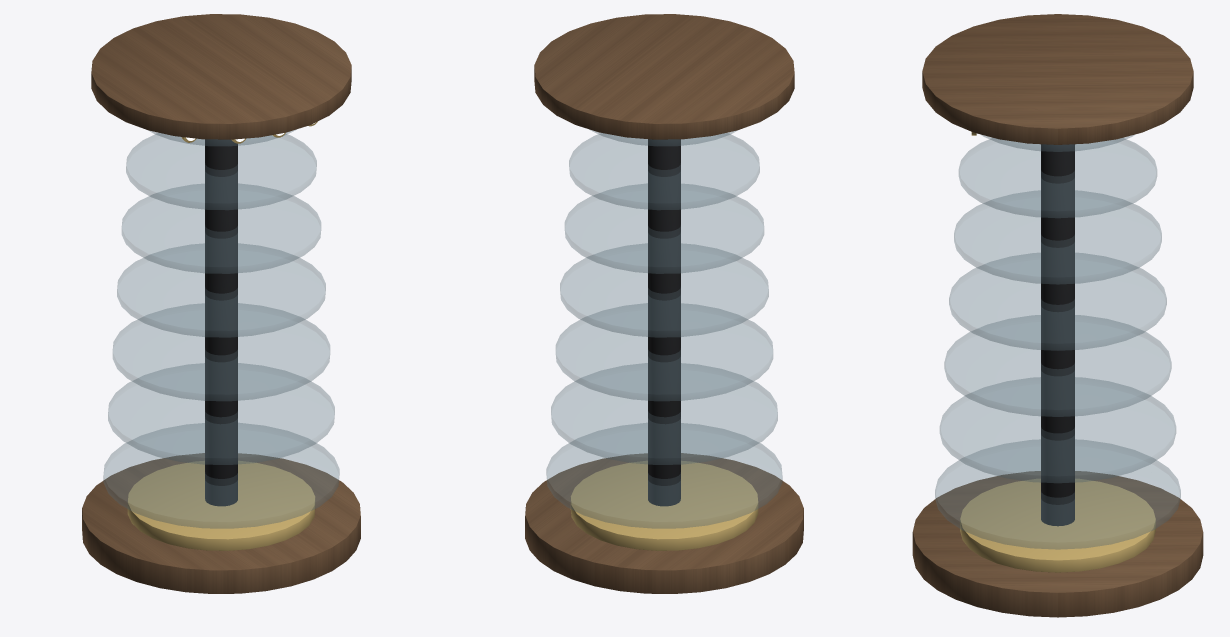
The model's file is pf_display_rotating_display_t5.glb.
3 views of the same model, side by side, from view 1: azimuth 30°, elevation 25°; view 2: azimuth 150°, elevation 25°; view 3: azimuth 270°, elevation 25° (orthographic). The views are drawn at different scales.
Visible parts, largest first — view 1: Rotor_Canopy, Stationary_Base, Rotor_Deck_01, Rotor_Deck_02, Rotor_Deck_03, Rotor_Deck_04, Rotor_Deck_05, Turntable_Bearing, Rotor_Column, Rotor_Deck_06, Rotor_Deck_07; view 2: Rotor_Canopy, Stationary_Base, Rotor_Deck_01, Rotor_Deck_02, Rotor_Deck_03, Rotor_Deck_04, Rotor_Deck_05, Turntable_Bearing, Rotor_Column, Rotor_Deck_06, Rotor_Deck_07; view 3: Rotor_Canopy, Stationary_Base, Rotor_Deck_01, Rotor_Deck_02, Rotor_Deck_03, Rotor_Deck_04, Rotor_Deck_05, Turntable_Bearing, Rotor_Column, Rotor_Deck_06, Rotor_Deck_07.
Boxes of the visible parts, x1,y1,x2,y2 form: Rotor_Canopy: [91, 14, 351, 139]; Stationary_Base: [82, 453, 360, 593]; Rotor_Deck_01: [103, 423, 339, 528]; Rotor_Deck_02: [108, 363, 334, 464]; Rotor_Deck_03: [113, 303, 329, 400]; Rotor_Deck_04: [117, 243, 325, 337]; Rotor_Deck_05: [122, 183, 320, 273]; Turntable_Bearing: [127, 461, 315, 550]; Rotor_Column: [205, 139, 237, 506]; Rotor_Deck_06: [126, 133, 316, 209]; Rotor_Deck_07: [148, 129, 296, 146]; Rotor_Canopy: [534, 14, 794, 139]; Stationary_Base: [525, 453, 803, 593]; Rotor_Deck_01: [546, 423, 782, 528]; Rotor_Deck_02: [551, 363, 777, 464]; Rotor_Deck_03: [556, 303, 772, 400]; Rotor_Deck_04: [560, 243, 768, 337]; Rotor_Deck_05: [565, 183, 763, 273]; Turntable_Bearing: [570, 461, 758, 550]; Rotor_Column: [648, 139, 680, 506]; Rotor_Deck_06: [569, 133, 759, 209]; Rotor_Deck_07: [589, 129, 737, 146]; Rotor_Canopy: [922, 14, 1193, 144]; Stationary_Base: [912, 471, 1203, 617]; Rotor_Deck_01: [935, 439, 1180, 549]; Rotor_Deck_02: [940, 377, 1175, 482]; Rotor_Deck_03: [944, 315, 1171, 416]; Rotor_Deck_04: [949, 253, 1166, 350]; Rotor_Deck_05: [954, 190, 1161, 284]; Turntable_Bearing: [960, 479, 1155, 572]; Rotor_Column: [1041, 144, 1074, 526]; Rotor_Deck_06: [959, 138, 1156, 217]; Rotor_Deck_07: [982, 135, 1133, 151].
Bounding box in the file's own units: 1.38 × 2.34 × 1.38.
Materials: 6 (2 with a texture image).
